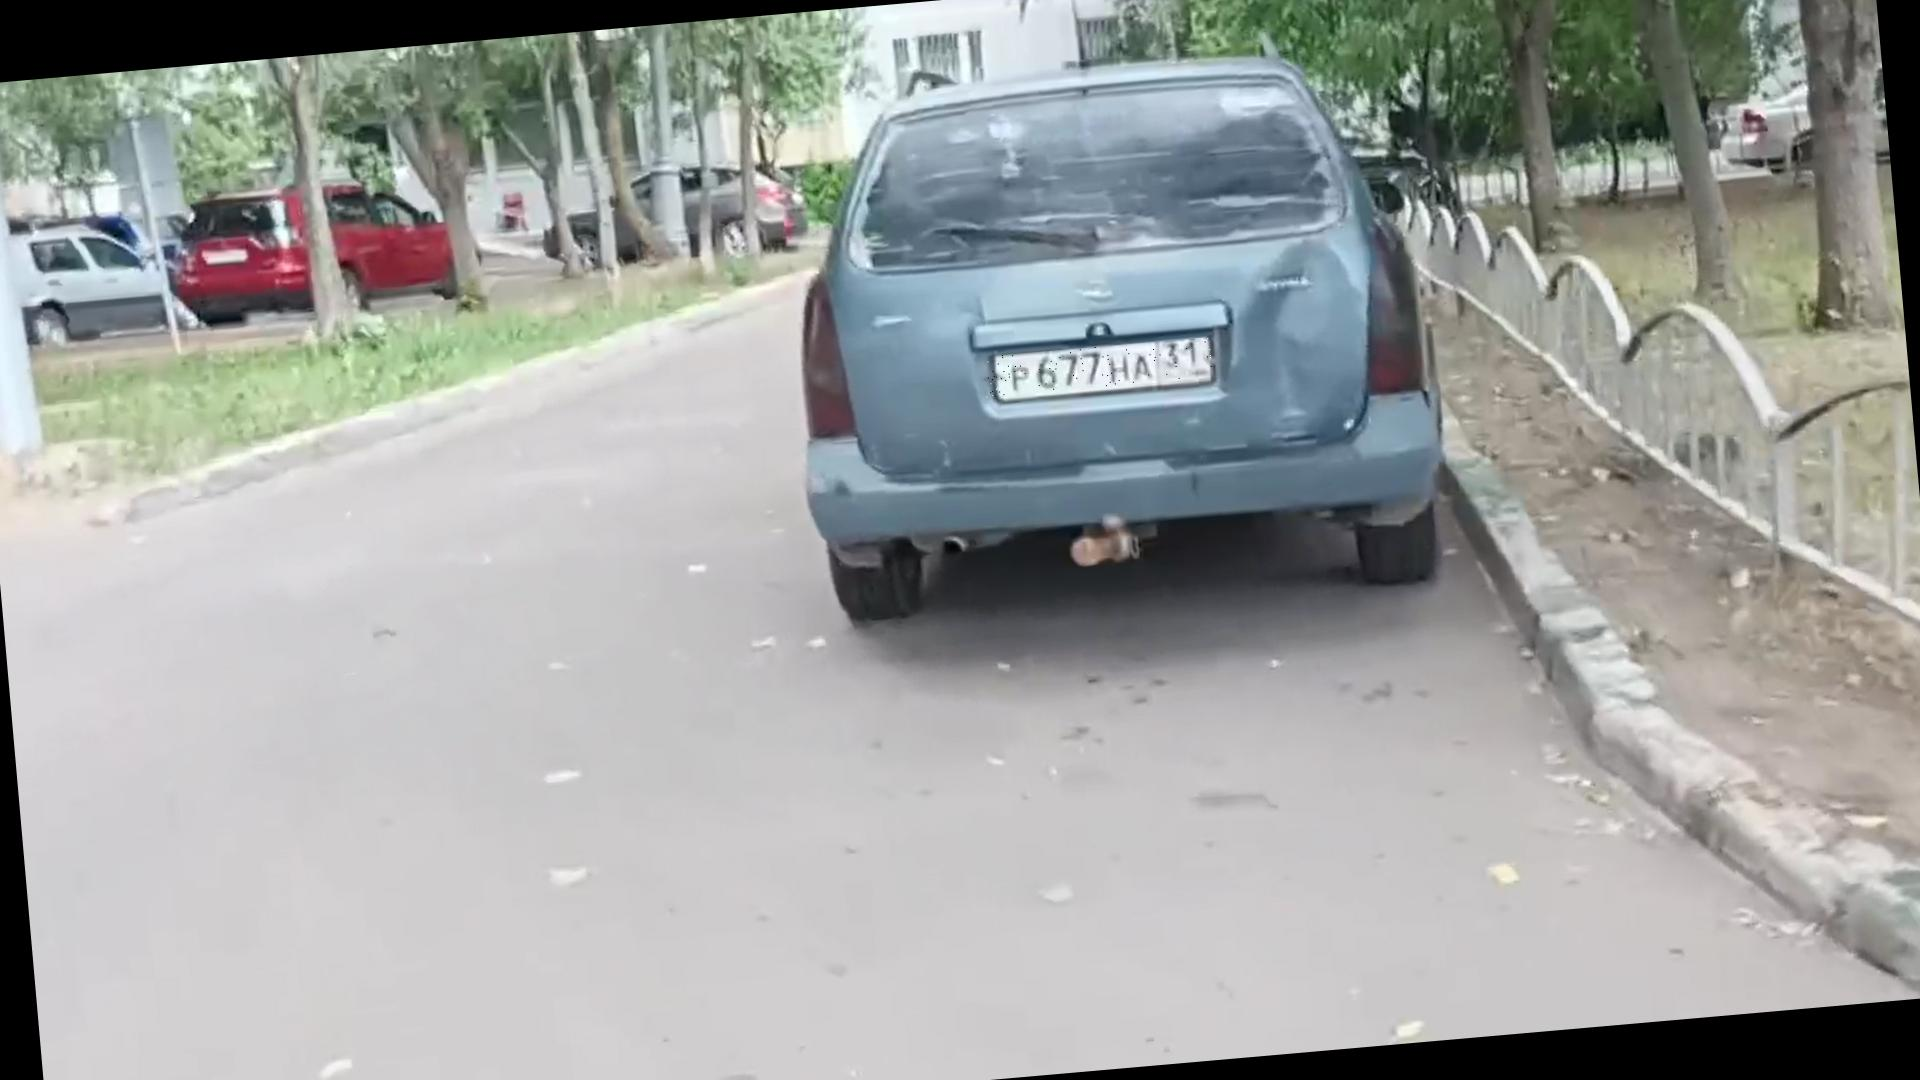plate: (983, 338, 1215, 400)
